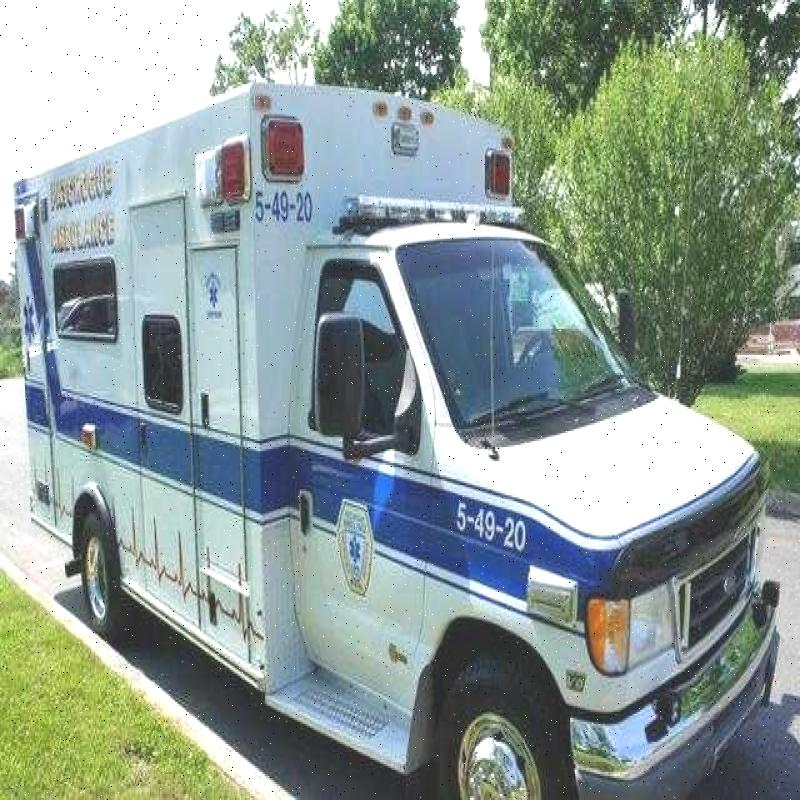ambulance: (22, 34, 772, 800)
